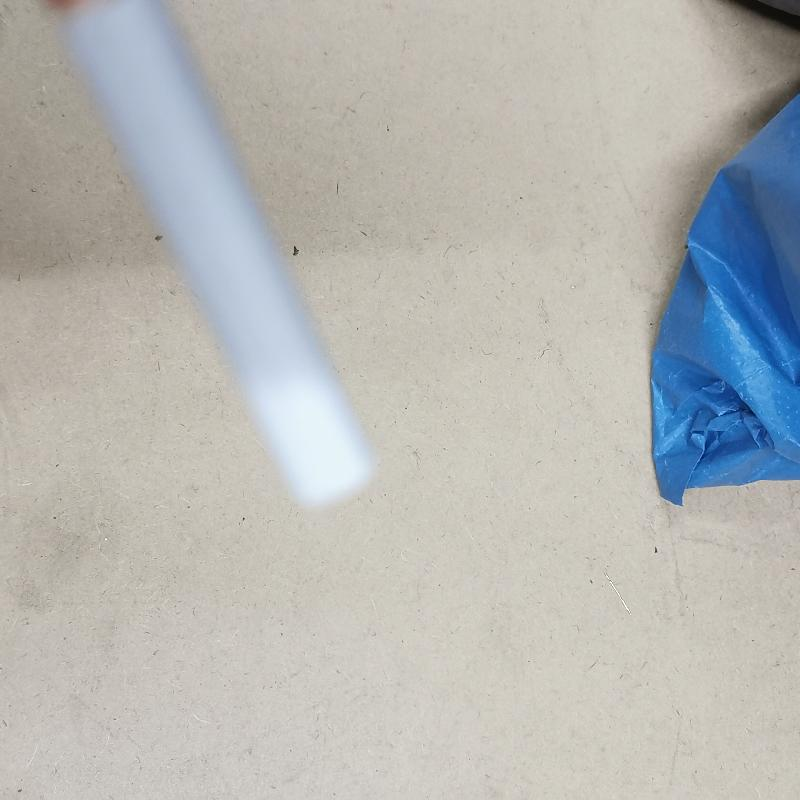cigarette: (47, 0, 372, 581)
